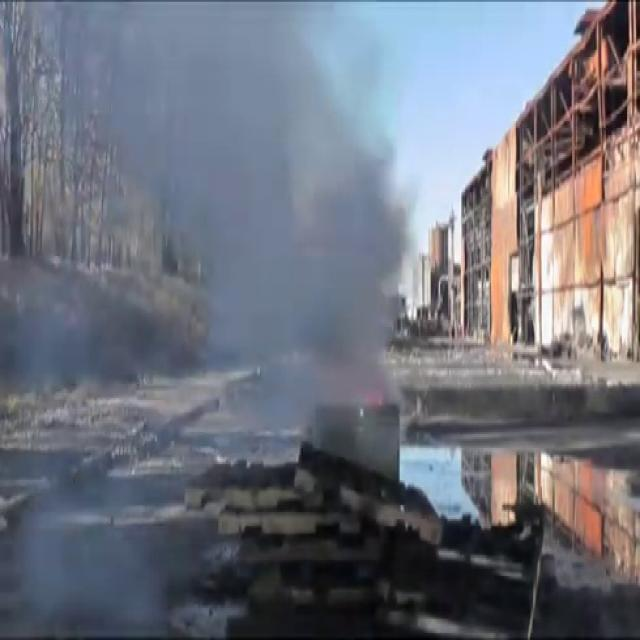Smoke: (39, 2, 422, 448)
